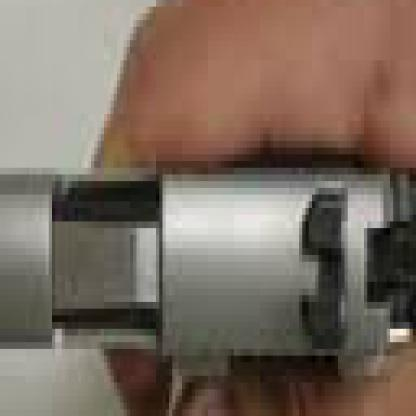gun: (0, 94, 413, 409)
